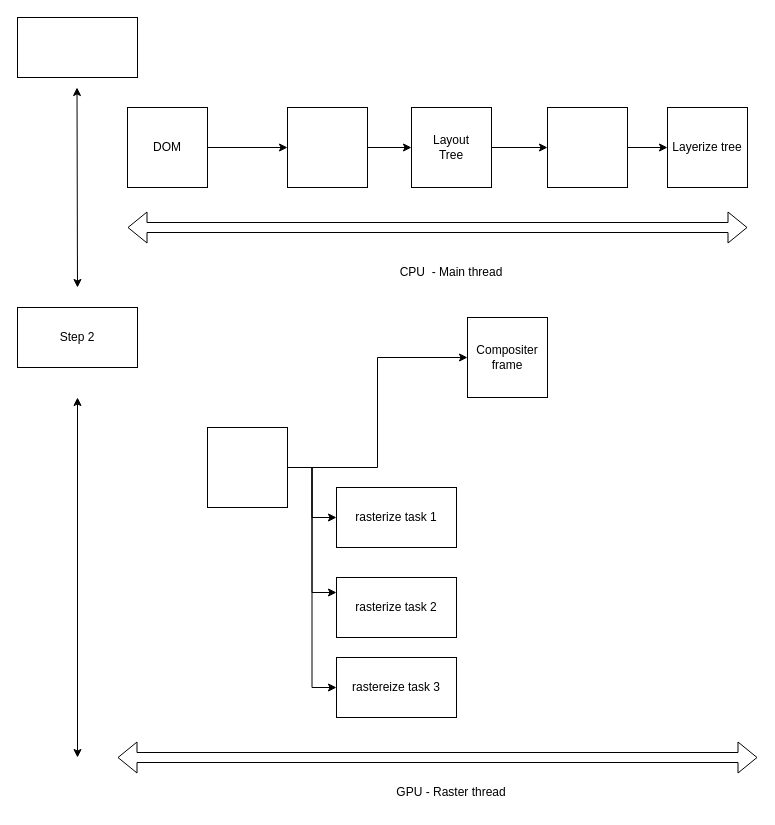
Image size: 775x825. Some labels were removed from this diagram. Each missing label, with the centre of its shape:
CSSDOM: the point at 327,147
Paint: the point at 587,147
Rasterize: the point at 247,467
Step 1: the point at 77,47
